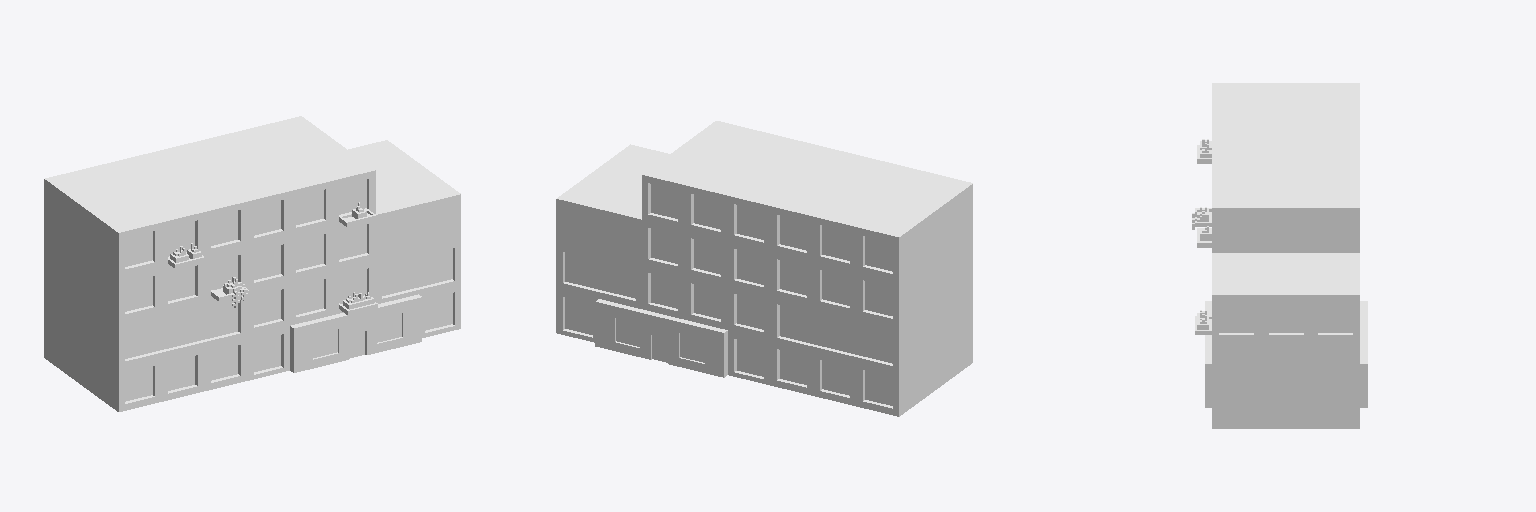
Rendered from Buildings_01-5.obj.
3 views of the same model, side by side, from view 1: azimuth 30°, elevation 25°; view 2: azimuth 150°, elevation 25°; view 3: azimuth 270°, elevation 25° (orthographic).
Parts seen in each view (by area): view 1: object 1; view 2: object 1; view 3: object 1.
Boxes of the visible parts, x1=… form: object 1: x1=44, y1=116, x2=460, y2=411; object 1: x1=556, y1=121, x2=972, y2=416; object 1: x1=1192, y1=83, x2=1367, y2=428.
Size of the model in its own units: 16 by 8 by 7.1.